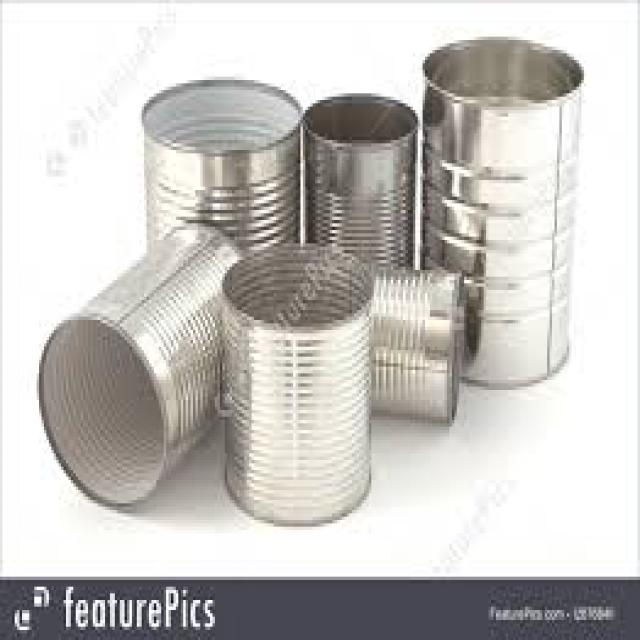metal: (35, 217, 262, 507), (421, 33, 582, 390), (222, 243, 369, 520), (247, 260, 459, 427), (137, 73, 300, 267), (301, 90, 411, 283)
